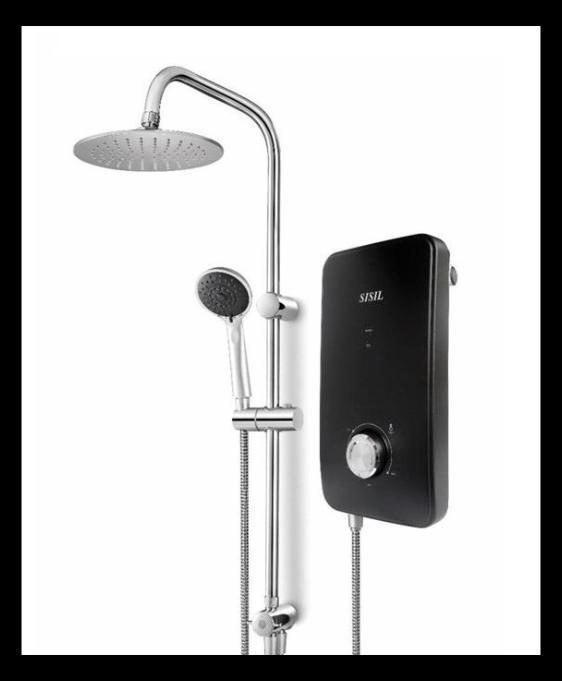Ducha: (66, 26, 455, 654)
